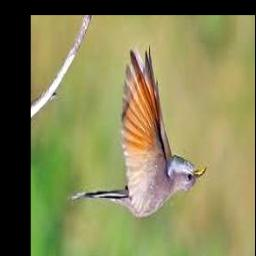Cuckoo: (68, 45, 207, 218)
